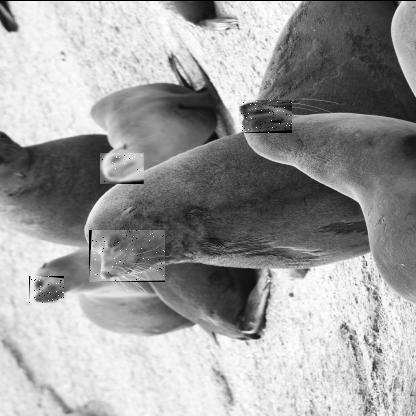face: (89, 228, 166, 281), (239, 98, 293, 132), (100, 151, 145, 183), (29, 274, 65, 302)
